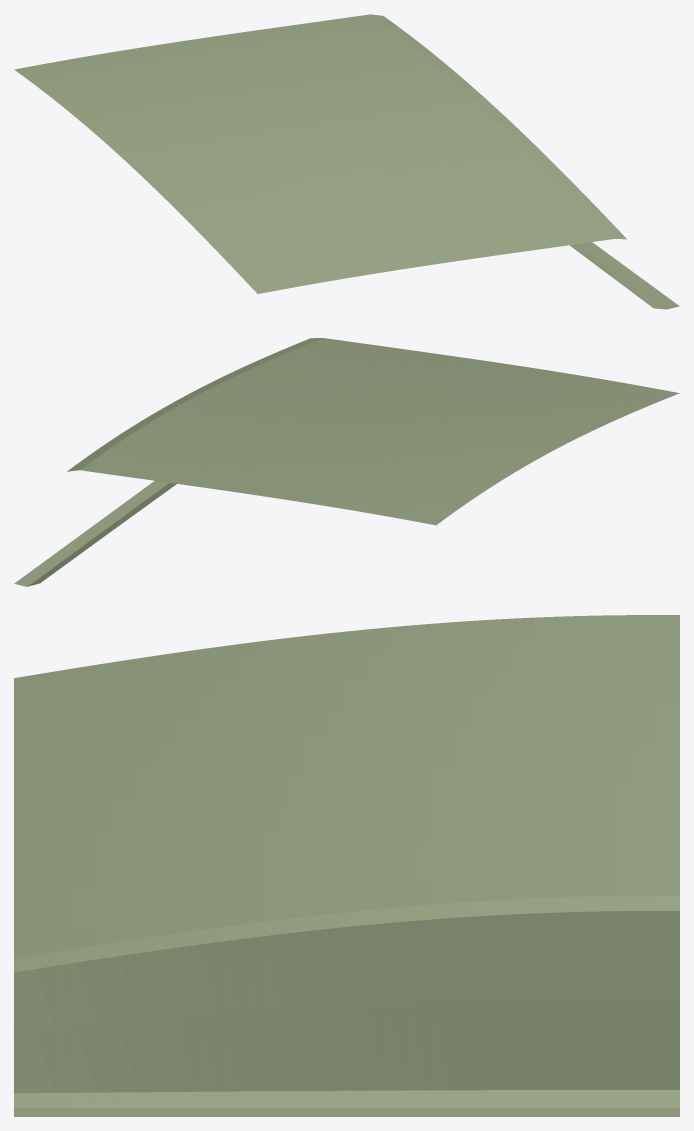
File: valley-7-15.glb
3 views of the same model, one above another, from view 1: azimuth 30°, elevation 25°; view 2: azimuth 150°, elevation 25°; view 3: azimuth 270°, elevation 25° (orthographic). The views are drawn at different scales.
Parts seen in each view (by area): view 1: valley-7-15; view 2: valley-7-15; view 3: valley-7-15.
Part boxes in pixels (x1,y1,x2,y2): valley-7-15: (14,14,679,309); valley-7-15: (14,338,679,586); valley-7-15: (14,615,679,1116).
Bounding box in the file's own units: 256 × 93.52 × 256.
